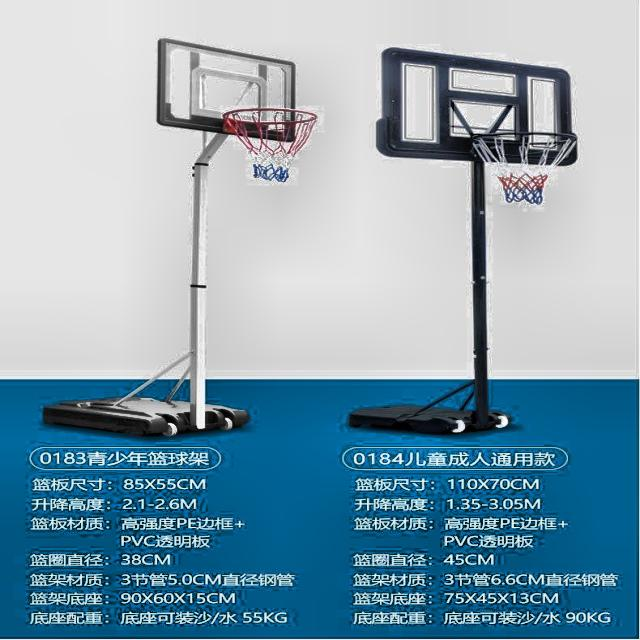rim: (472, 131, 575, 205), (221, 109, 320, 182)
